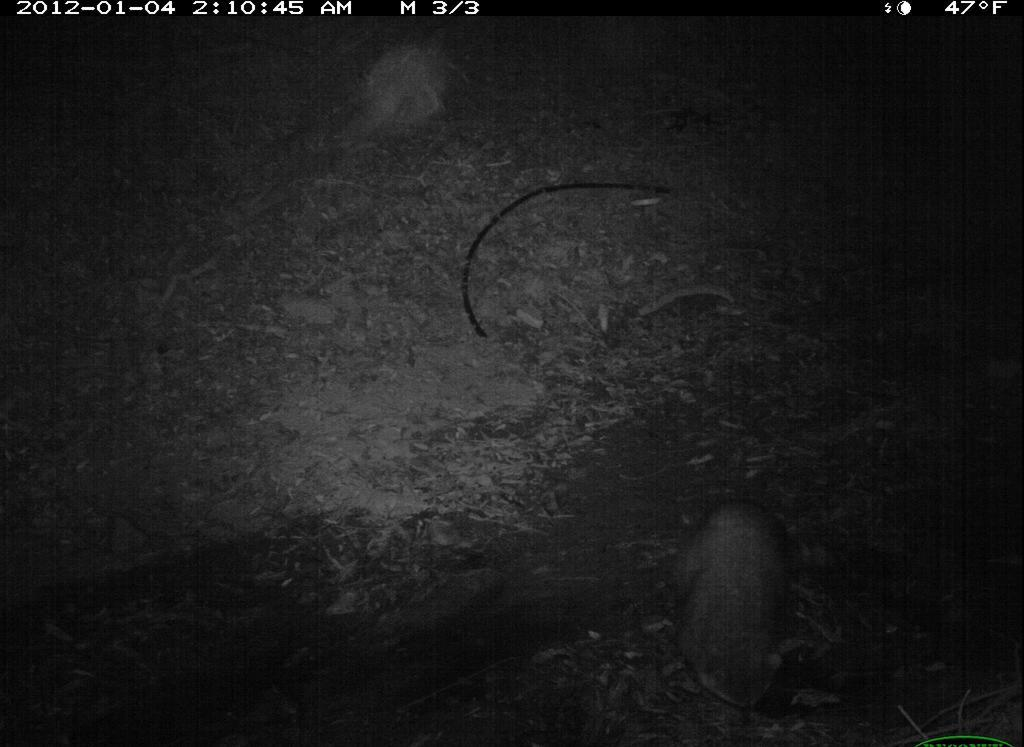raccoon: (673, 474, 815, 729)
